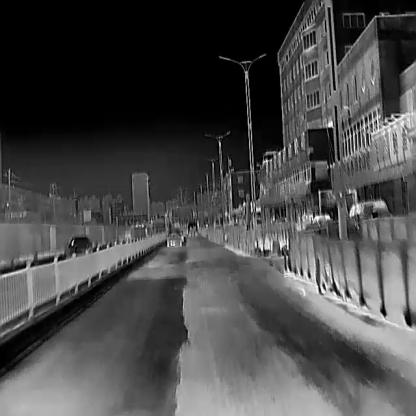car: (346, 201, 392, 219), (67, 234, 93, 257), (166, 230, 184, 246), (187, 222, 197, 236)
